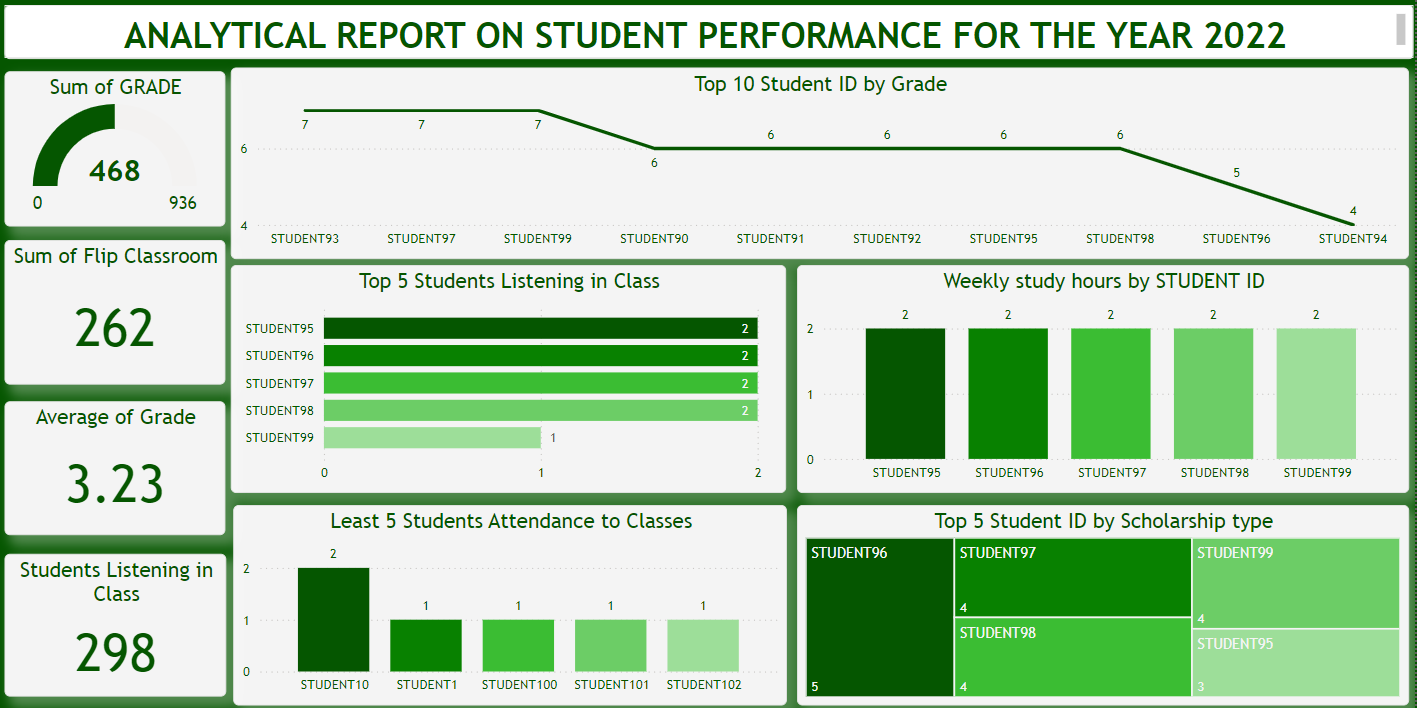

This screenshot's page, from the dashboard's own definition file:
{"tool":"powerbi","page":{"name":"Page 1","canvas":[1280,720],"ordinal":0},"visuals":[{"type":"textbox","box":[6.8,67.6,1271.4,48.5],"z":0},{"type":"lineChart","title":"Top 10 Student ID by Grade","fields":{"Category":["StudentsPerformance_with_headers.STUDENT ID"],"Y":["Sum(StudentsPerformance_with_headers.GRADE)"]},"box":[211.3,123.5,1062.1,172.9],"z":1},{"type":"clusteredBarChart","title":"Top 5 Students Listening in Class","fields":{"Category":["StudentsPerformance_with_headers.STUDENT ID"],"Y":["Sum(StudentsPerformance_with_headers.Listening in classes)"]},"box":[211.3,301.9,500.9,205.8],"z":2},{"type":"columnChart","title":" Weekly study hours by STUDENT ID","fields":{"Category":["StudentsPerformance_with_headers.STUDENT ID"],"Y":["Sum(StudentsPerformance_with_headers.Weekly study hours)"]},"box":[721.8,301.9,551.6,205.8],"z":3},{"type":"gauge","fields":{"Y":["Sum(StudentsPerformance_with_headers.GRADE)"]},"box":[6.9,127.6,199,140],"z":4},{"type":"columnChart","title":"Least 5 Students Attendance to Classes","fields":{"Category":["StudentsPerformance_with_headers.STUDENT ID"],"Y":["Sum(StudentsPerformance_with_headers.Attendance to classes)"]},"box":[212.7,518.7,499.5,181.1],"z":5},{"type":"treemap","title":"Top 5 Student ID by Scholarship type","fields":{"Group":["StudentsPerformance_with_headers.STUDENT ID"],"Values":["Sum(StudentsPerformance_with_headers.Scholarship type)"]},"box":[721.8,518.7,551.6,181.1],"z":6},{"type":"card","title":"Sum of Flip Classroom","fields":{"Values":["Sum(StudentsPerformance_with_headers.Flip-classroom)"]},"box":[6.9,279.9,199,130.4],"z":7},{"type":"card","title":"Average of Grade","fields":{"Values":["Avg(StudentsPerformance_with_headers.GRADE)"]},"box":[6.9,425.4,199,120.8],"z":8},{"type":"card","title":"Students Listening in Class","fields":{"Values":["Sum(StudentsPerformance_with_headers.Listening in classes)"]},"box":[6.9,562.6,200.3,129],"z":9}]}

Visuals, with their boxes on the page's 1280x720 design canvas (x1, y1, x2, y2). These are canvas units, not pixel positions in the 1417x708 screenshot, which may show the page scaled, cropped or inside an application window:
textbox: BBox(7, 68, 1278, 116)
"Top 10 Student ID by Grade" lineChart: BBox(211, 124, 1273, 296)
"Top 5 Students Listening in Class" clusteredBarChart: BBox(211, 302, 712, 508)
" Weekly study hours by STUDENT ID" columnChart: BBox(722, 302, 1273, 508)
gauge - Sum(StudentsPerformance_with_headers.GRADE): BBox(7, 128, 206, 268)
"Least 5 Students Attendance to Classes" columnChart: BBox(213, 519, 712, 700)
"Top 5 Student ID by Scholarship type" treemap: BBox(722, 519, 1273, 700)
"Sum of Flip Classroom" card: BBox(7, 280, 206, 410)
"Average of Grade" card: BBox(7, 425, 206, 546)
"Students Listening in Class" card: BBox(7, 563, 207, 692)
